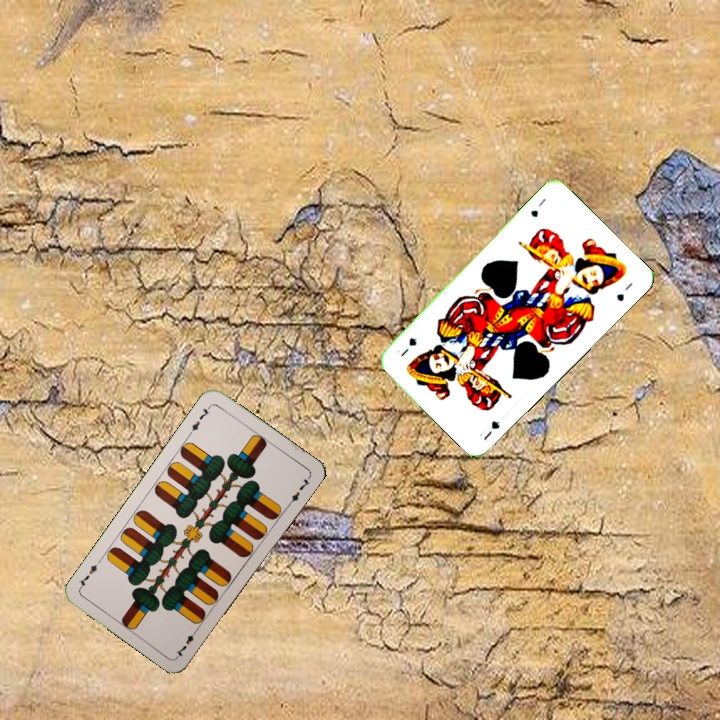E7: (172, 624, 201, 659), (185, 401, 213, 437)
GU: (475, 416, 502, 443), (526, 194, 548, 220)
